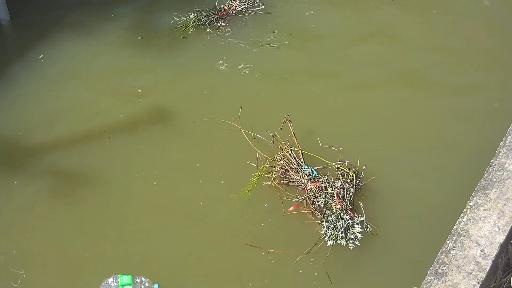plastic: (94, 270, 159, 286)
twig: (200, 99, 365, 248), (166, 0, 287, 35)
